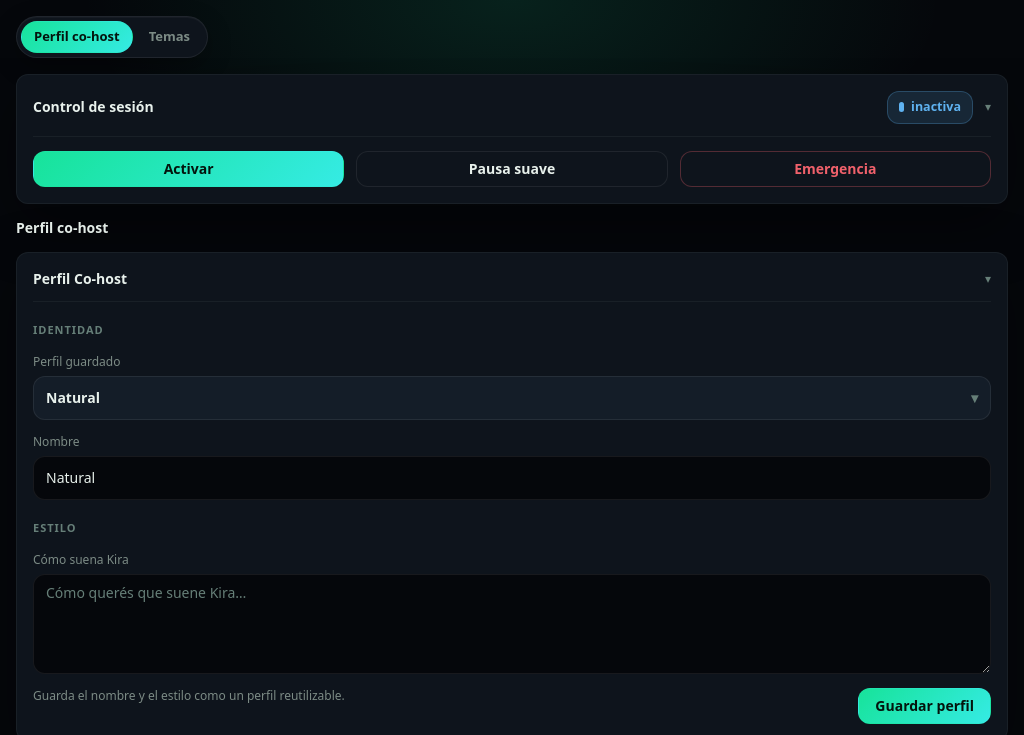
Test case: AgendaPanel hydrates Now/Queue from GET /api/agenda › shows an empty-queue message when GET returns no queued topics
Click the button "Temas".
click(169, 37)  # box [136,21,203,53]
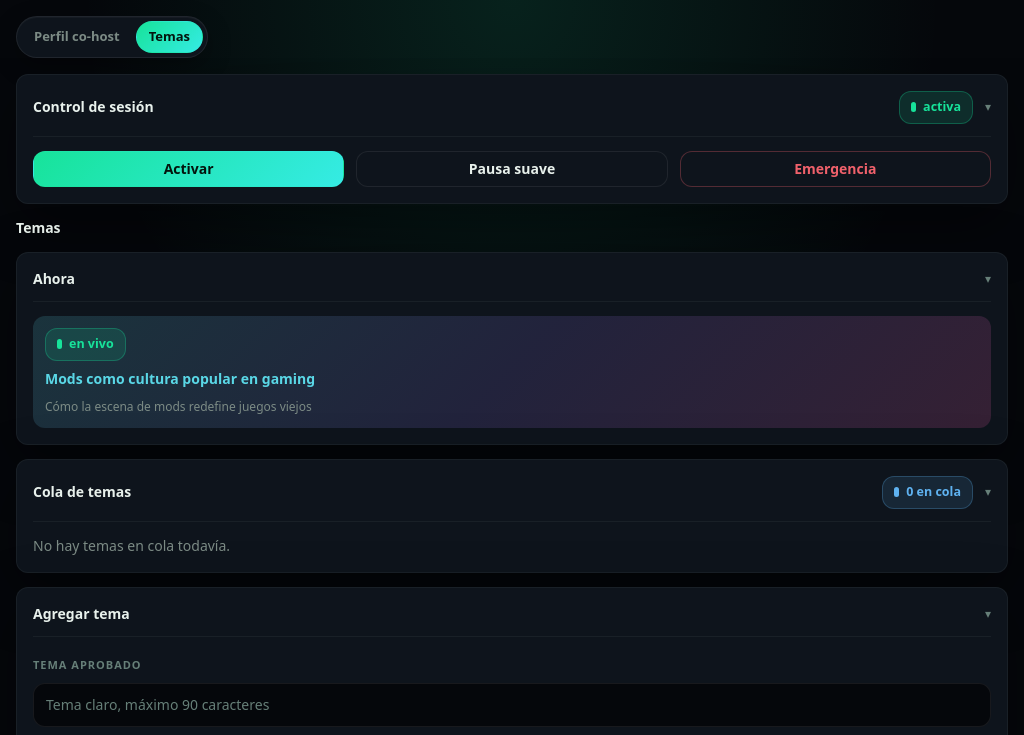
expect the text "No hay temas en cola todavía." is shown: met, box [33,536,230,555]
